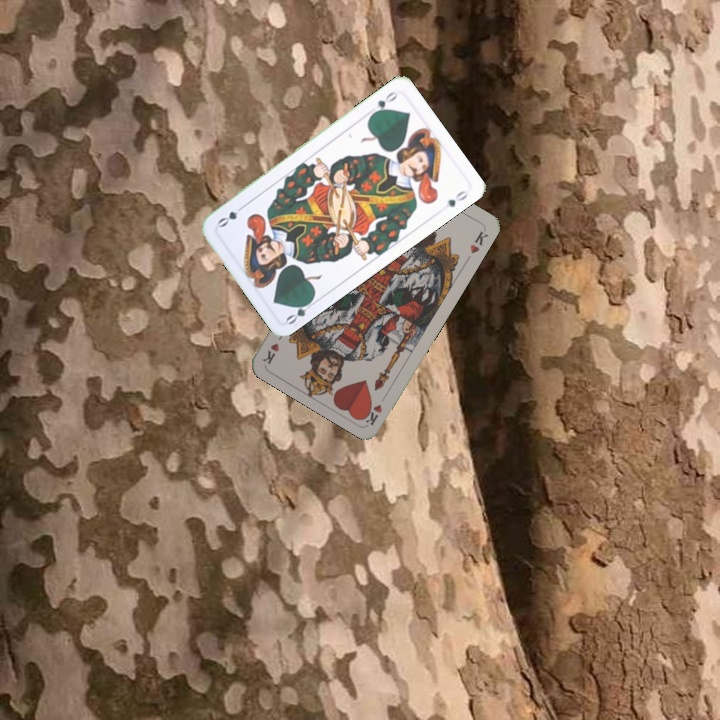GO: (282, 295, 319, 327), (367, 87, 400, 118)
HK: (360, 389, 391, 427)
